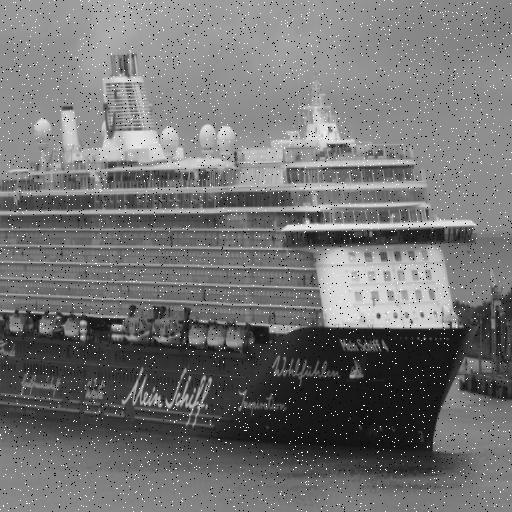cruises: (1, 51, 481, 466)
